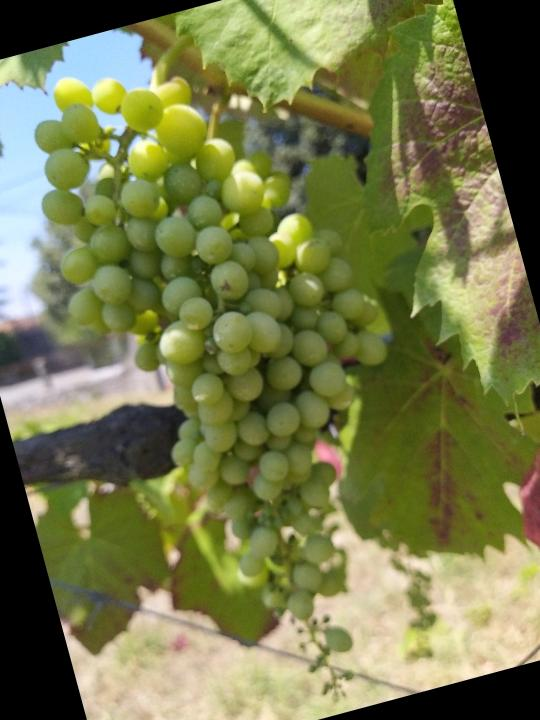grape: (7, 14, 476, 720)
